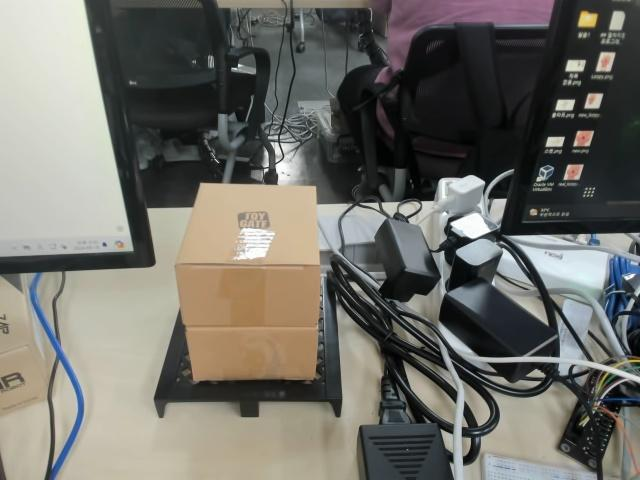box: (153, 182, 343, 417)
